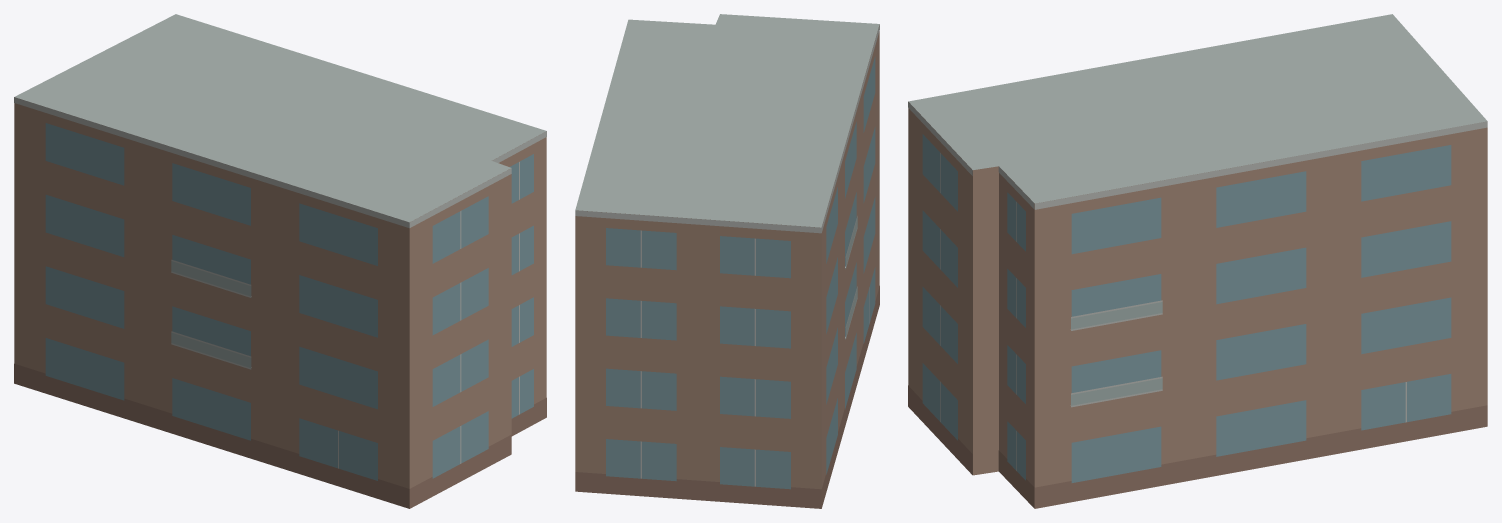
File: survey-upis-33043021.glb
3 renders of one model, left to right at view 1: azimuth 30°, elevation 25°; view 2: azimuth 150°, elevation 25°; view 3: azimuth 270°, elevation 25°, orthographic. The views are drawn at different scales.
Parts seen in each view (by area): view 1: survey-upis-33043021.tmp; view 2: survey-upis-33043021.tmp; view 3: survey-upis-33043021.tmp.
Boxes of the visible parts, x1=… form: survey-upis-33043021.tmp: x1=14, y1=14, x2=546, y2=508; survey-upis-33043021.tmp: x1=575, y1=14, x2=879, y2=508; survey-upis-33043021.tmp: x1=908, y1=14, x2=1487, y2=508.
Bounding box in the file's own units: 15.86 × 11.9 × 20.48.
